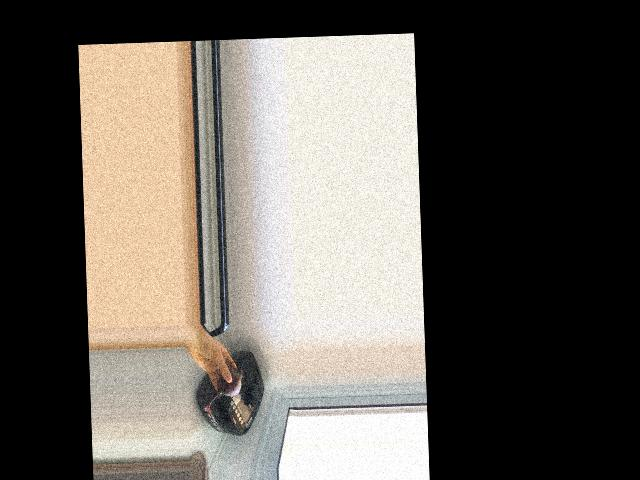beet: (206, 361, 244, 407)
